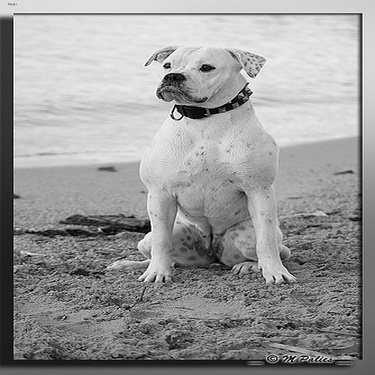dog: (103, 38, 297, 294)
